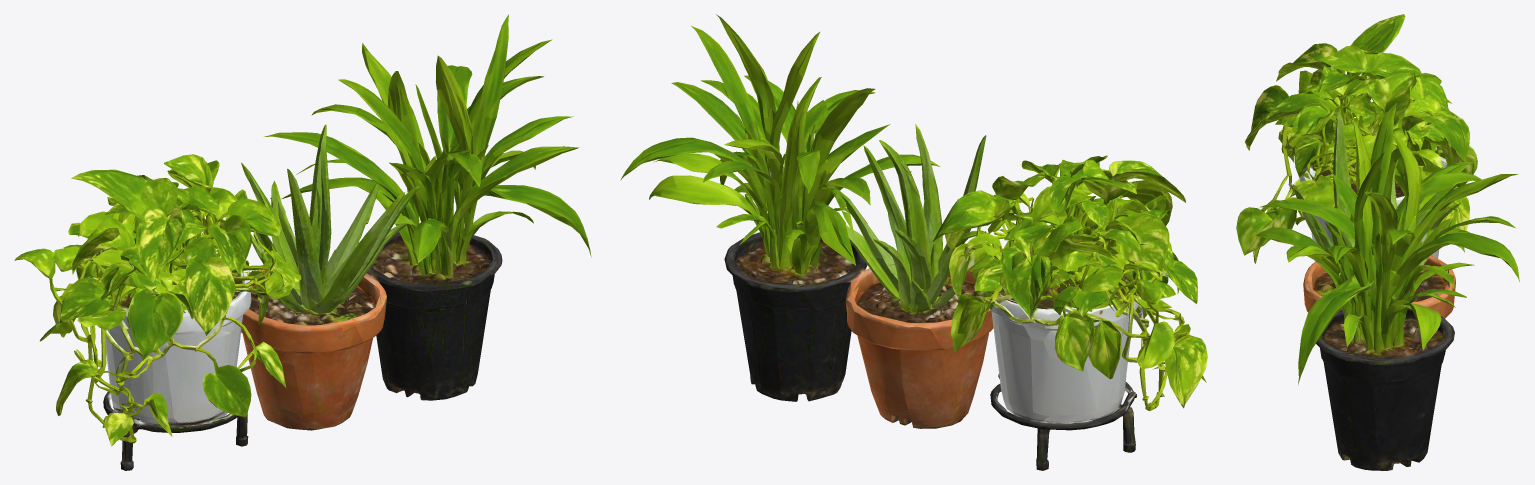
Rendered from w4corrpots.glb.
The picture shows the model from 3 angles, left to right: view 1: azimuth 30°, elevation 25°; view 2: azimuth 150°, elevation 25°; view 3: azimuth 270°, elevation 25°; orthographic projection. The views are drawn at different scales.
Visible parts, largest first — view 1: output_unwrapped; view 2: output_unwrapped; view 3: output_unwrapped.
Part boxes in pixels (x1,y1,x2,y2): output_unwrapped: (14, 14, 591, 470); output_unwrapped: (620, 14, 1207, 470); output_unwrapped: (1236, 14, 1519, 470).
Size of the model in its own units: 1 by 0.6462 by 0.4917.
1 material, 1 textured.
